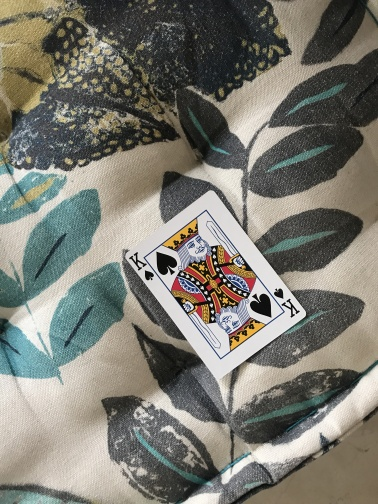king: (123, 188, 309, 381)
